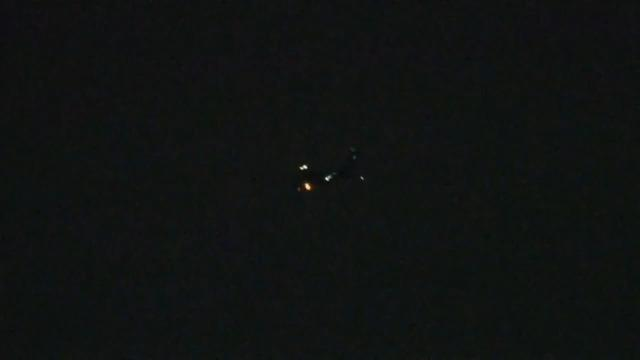Plane: (273, 153, 342, 202)
